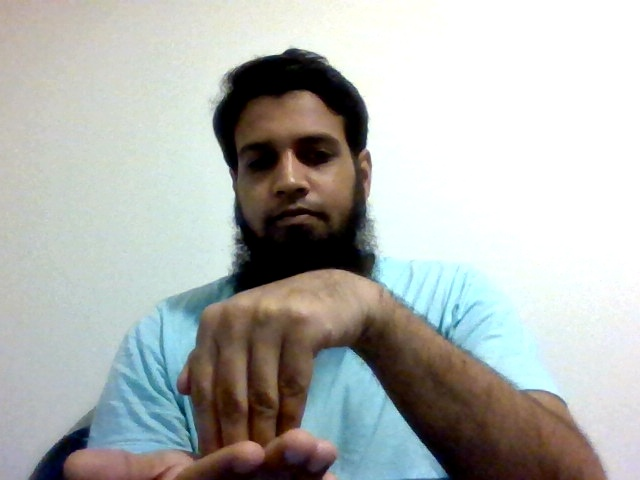again: (58, 267, 374, 480)
